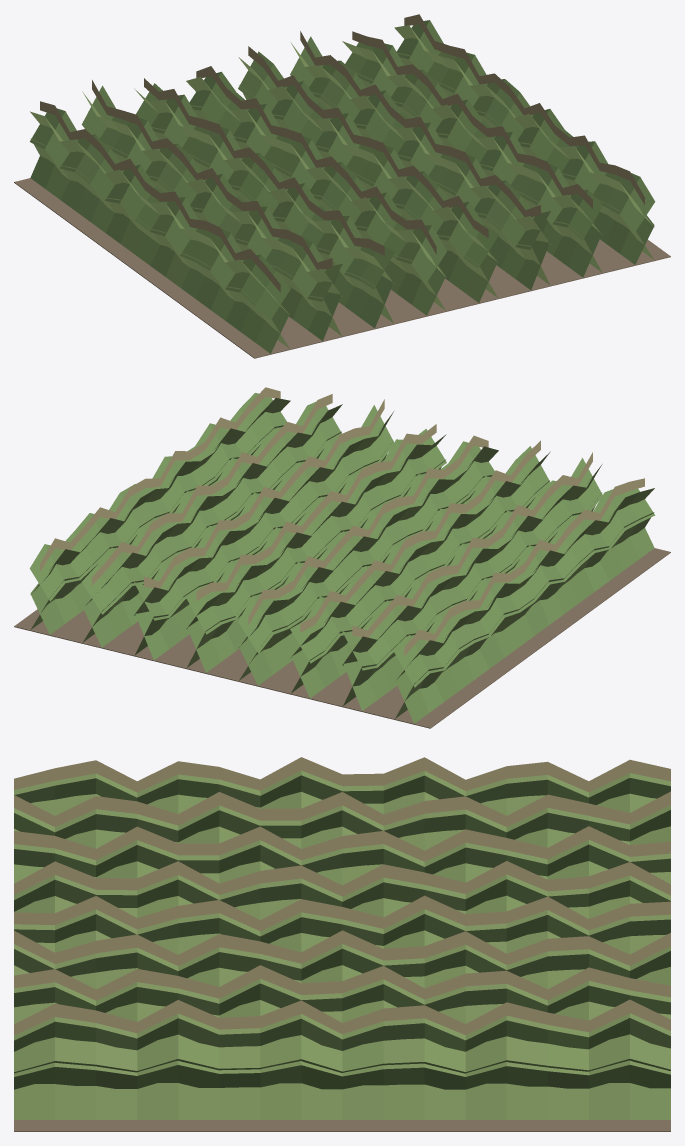
Rendered from crop_corn.glb.
The picture shows the model from 3 angles, top to bottom: view 1: azimuth 30°, elevation 25°; view 2: azimuth 150°, elevation 25°; view 3: azimuth 270°, elevation 25°; orthographic projection. The views are drawn at different scales.
Visible parts, largest first — view 1: crop_corn; view 2: crop_corn; view 3: crop_corn.
Part boxes in pixels (x1,y1,x2,y2): crop_corn: (14,14,670,358); crop_corn: (14,387,670,728); crop_corn: (14,757,670,1131).
Bounding box in the file's own units: 12 × 2.32 × 12.
